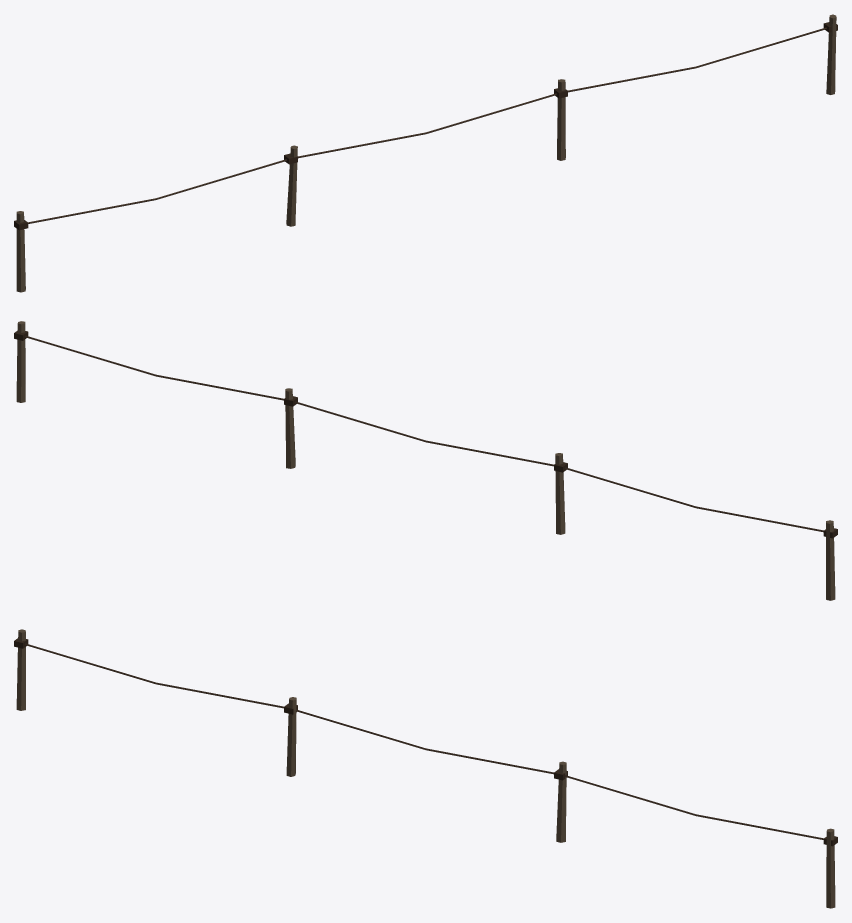
Rendered from estacas_caballos.glb.
3 renders of one model, top to bottom at view 1: azimuth 30°, elevation 25°; view 2: azimuth 150°, elevation 25°; view 3: azimuth 330°, elevation 25°, orthographic.
Visible parts, largest first — view 1: EstacasCaballos; view 2: EstacasCaballos; view 3: EstacasCaballos.
Boxes of the visible parts, box(x1,y1,x2,y2) form: EstacasCaballos: box(14, 14, 837, 292); EstacasCaballos: box(14, 321, 837, 600); EstacasCaballos: box(14, 629, 837, 908).
Bounding box in the file's own units: 9.1 × 0.8228 × 0.1143.
